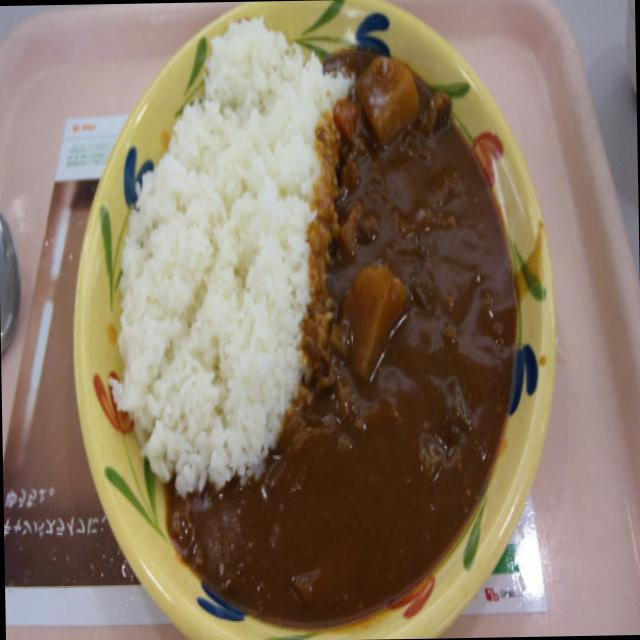Beef Curry: (282, 0, 503, 611)
Rice: (102, 5, 331, 469)
